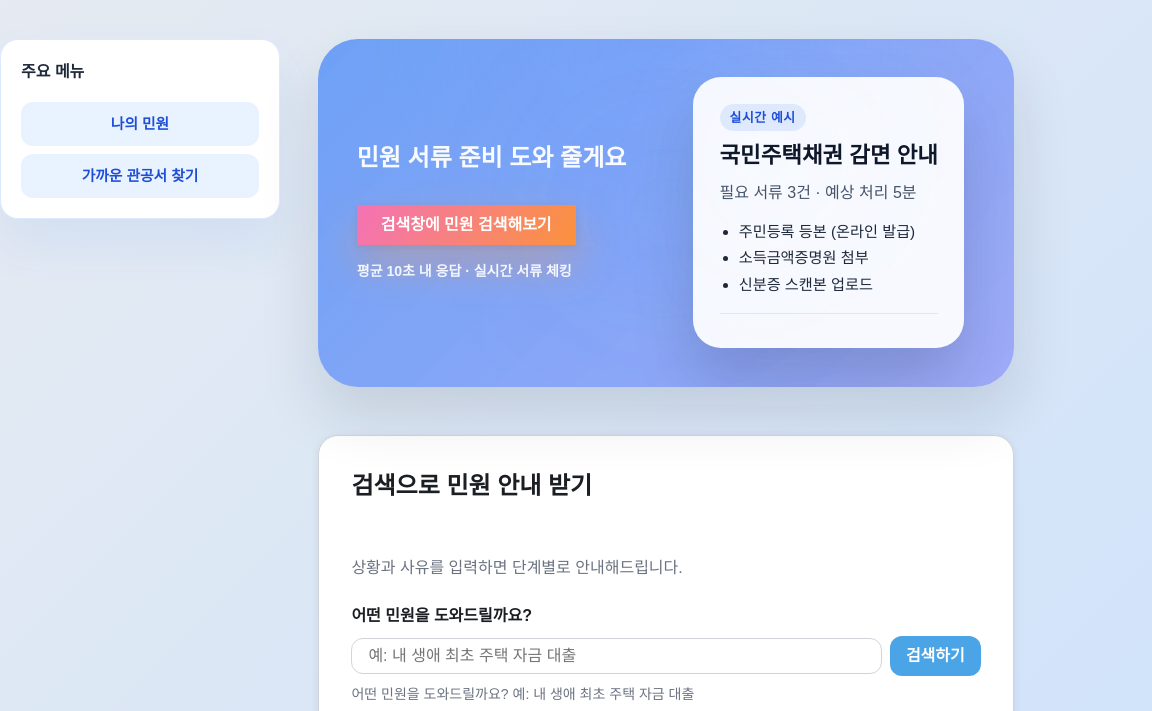
it: HomePage chatbot guidance › shows not-found message when backend returns no records
Type "없는 민원" into the field labelled "어떤 민원을 도와드릴까요?" at x=617, y=656, box [351, 638, 882, 674]
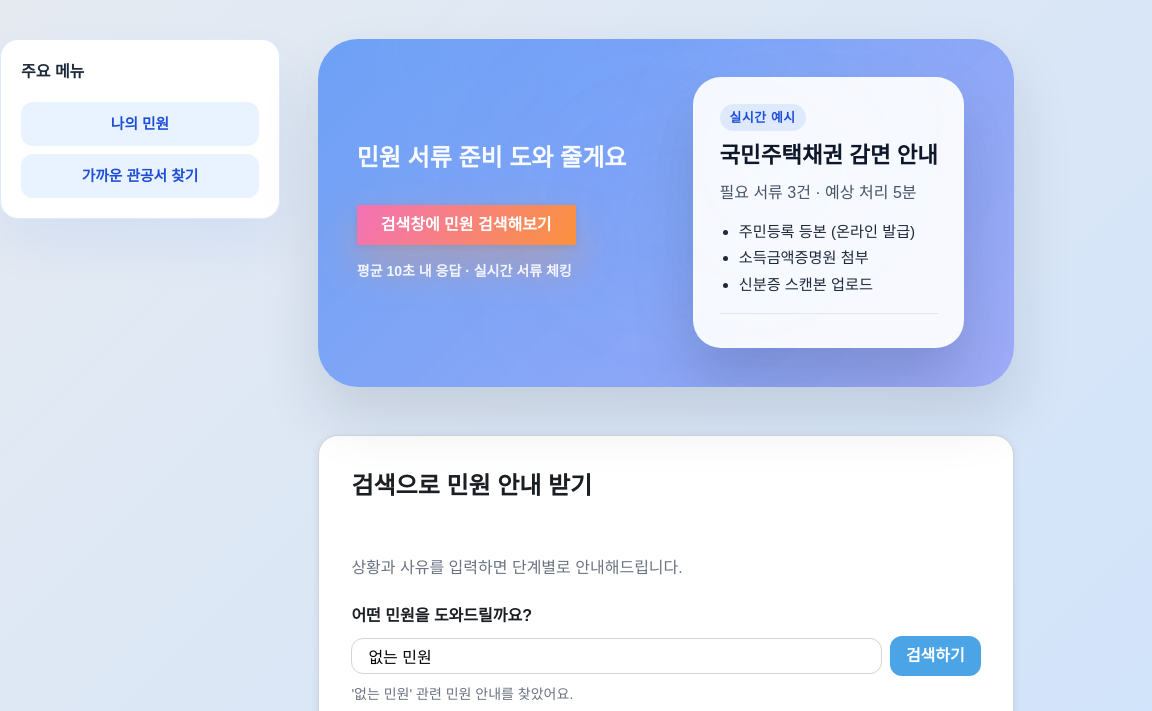
Submit the form labelled "어떤 민원을 도와드릴까요?", box [351, 604, 981, 705]
(page scrolled)
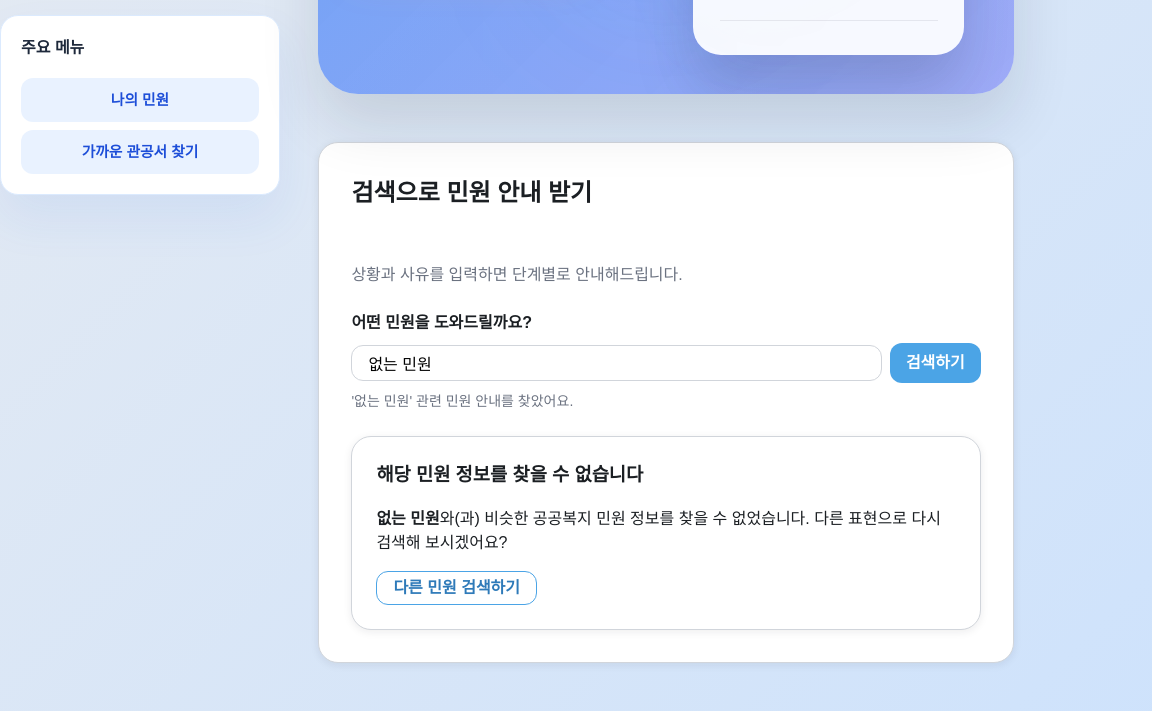
Check: the heading "해당 민원 정보를 찾을 수 없습니다" is shown, box [376, 464, 643, 485]
